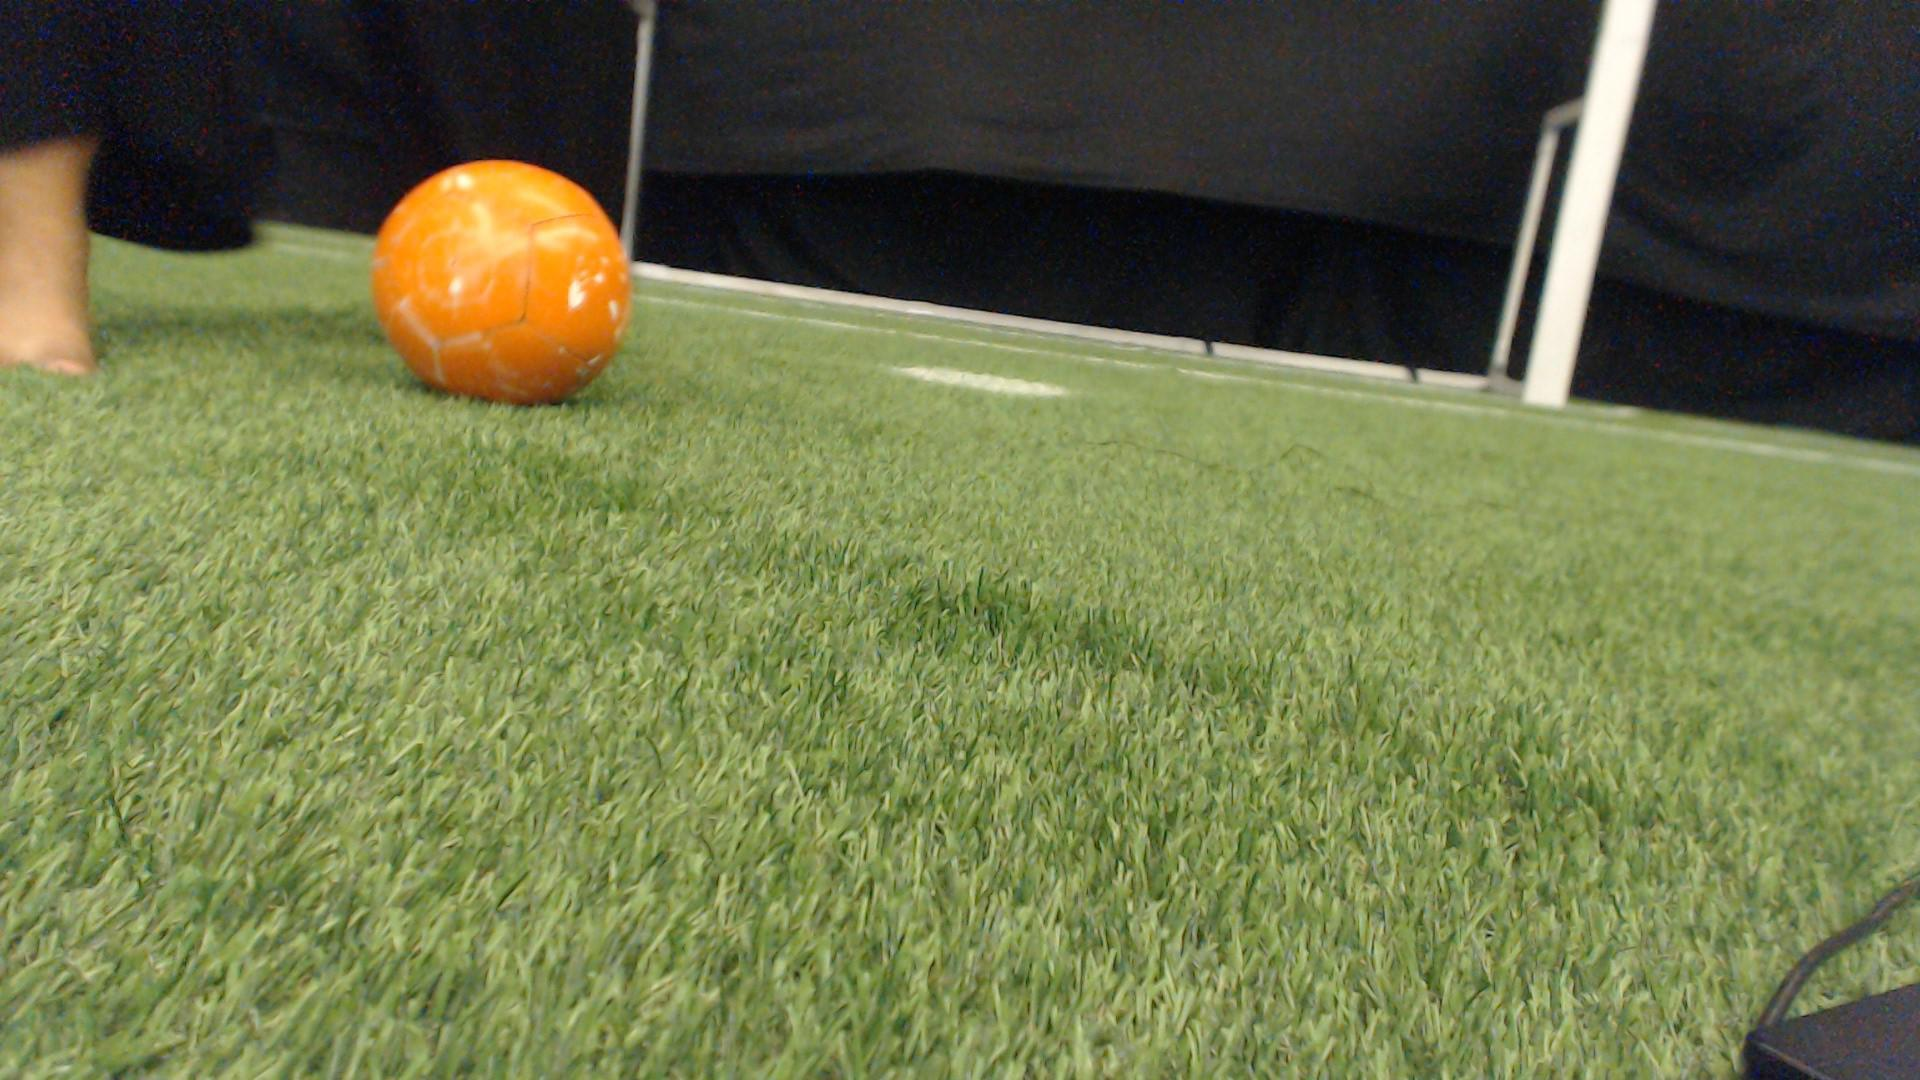bola: (355, 156, 658, 406)
